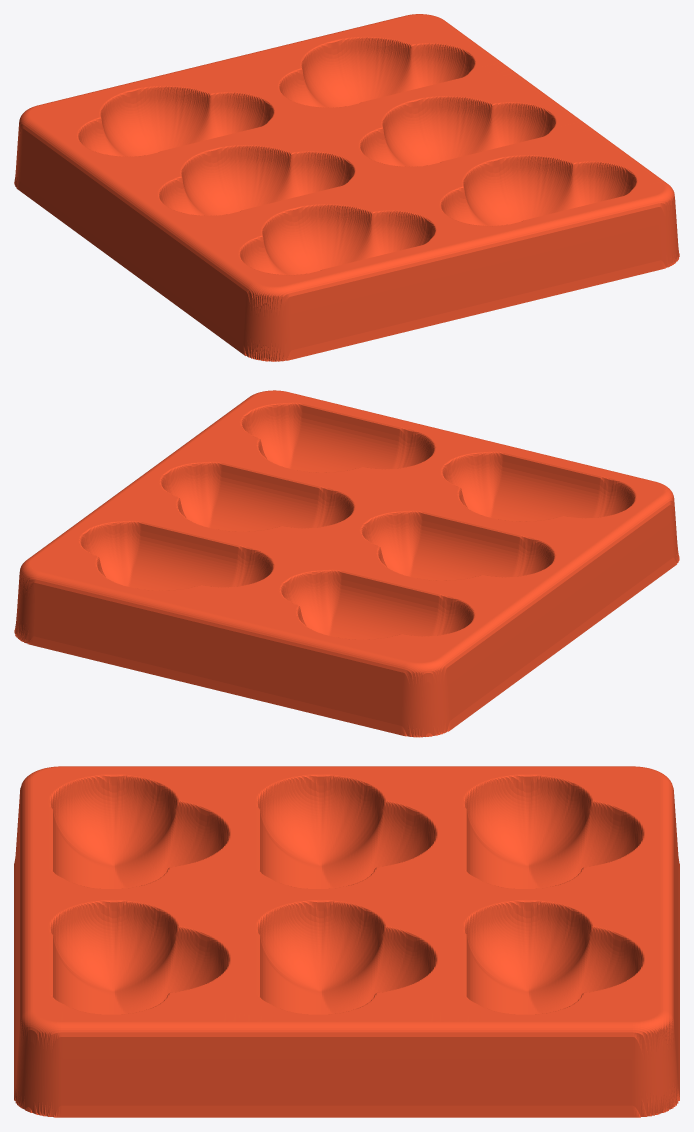
Rendered from mold.glb.
3 renders of one model, top to bottom at view 1: azimuth 30°, elevation 25°; view 2: azimuth 150°, elevation 25°; view 3: azimuth 270°, elevation 25°, orthographic. The views are drawn at different scales.
Parts seen in each view (by area): view 1: geometry_0; view 2: geometry_0; view 3: geometry_0.
Part boxes in pixels (box(x1,y1,x2,y2)): geometry_0: box(14, 14, 679, 361); geometry_0: box(14, 390, 679, 737); geometry_0: box(14, 766, 679, 1117).
Size of the model in its own units: 0.1222 by 0.0185 by 0.1273.
